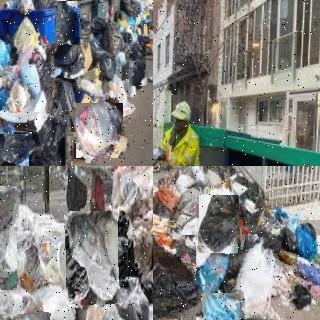Garbage: (65, 211, 119, 305), (153, 230, 201, 320), (232, 236, 277, 318), (73, 100, 127, 161), (18, 111, 65, 166), (198, 195, 239, 254), (28, 282, 87, 320), (0, 184, 18, 289), (201, 292, 245, 320), (51, 43, 85, 79), (55, 1, 80, 44), (0, 134, 29, 166), (129, 58, 147, 86)
